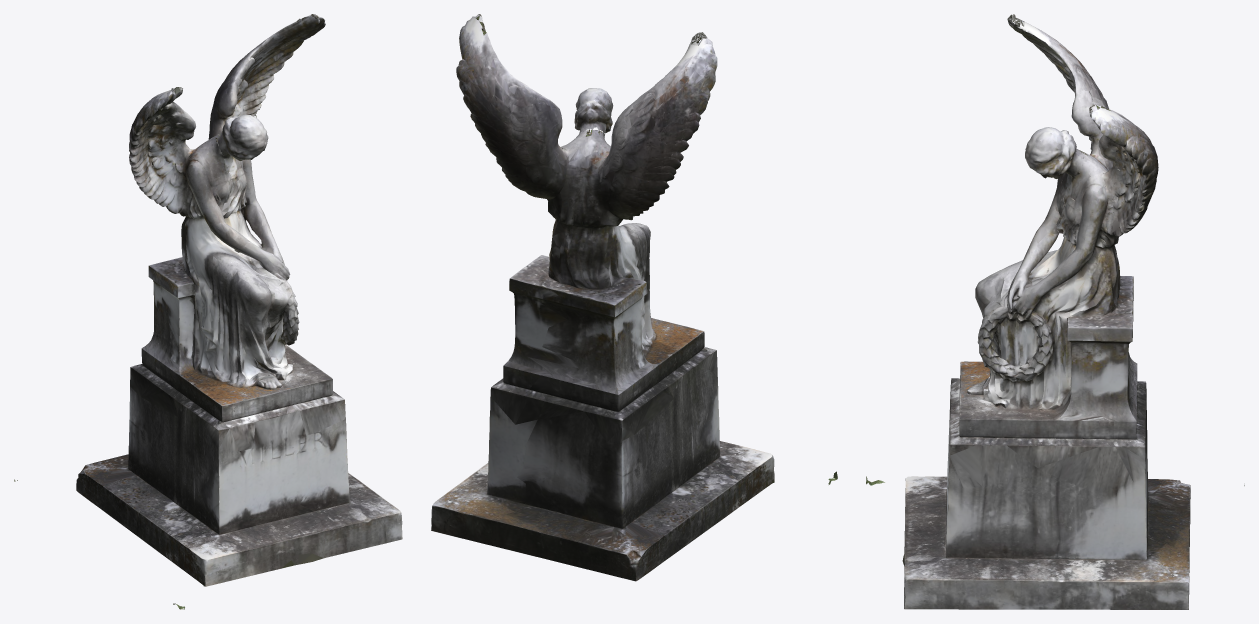
The model's file is Statue_Angel_Miller.gltf.
3 renders of one model, left to right at view 1: azimuth 30°, elevation 25°; view 2: azimuth 150°, elevation 25°; view 3: azimuth 270°, elevation 25°, orthographic. The views are drawn at different scales.
Visible parts, largest first — view 1: Statue_Angel_Miller_Figure, Statue_Angel_Miller_Head; view 2: Statue_Angel_Miller_Figure, Statue_Angel_Miller_Head; view 3: Statue_Angel_Miller_Figure, Statue_Angel_Miller_Head.
Boxes of the visible parts, x1,y1,x2,y2 form: Statue_Angel_Miller_Figure: (14,14,402,609); Statue_Angel_Miller_Head: (217,114,268,160); Statue_Angel_Miller_Figure: (431,14,837,581); Statue_Angel_Miller_Head: (574,88,613,134); Statue_Angel_Miller_Figure: (866,14,1244,609); Statue_Angel_Miller_Head: (1025,127,1083,178).
Size of what is drawn, in the model's own units: 1.44 by 2.51 by 1.71.
Materials: 1 (1 with a texture image).
